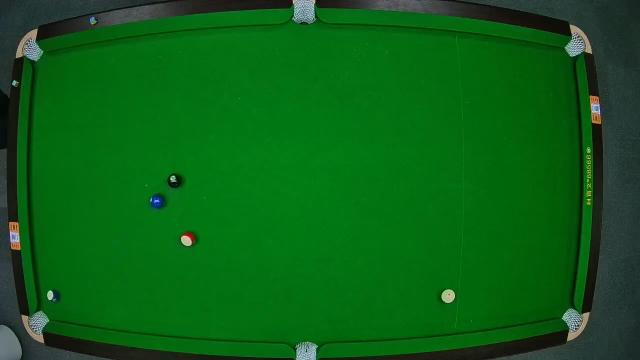bag1: (22, 39, 42, 61)
bag2: (292, 0, 318, 24)
bag3: (564, 33, 588, 55)
bag4: (27, 310, 48, 334)
bag5: (293, 340, 319, 360)
bag6: (562, 308, 582, 330)
ball0: (440, 288, 456, 304)
ball10: (46, 289, 62, 303)
ball11: (180, 231, 196, 246)
ball2: (150, 194, 166, 210)
ball8: (166, 174, 182, 188)
